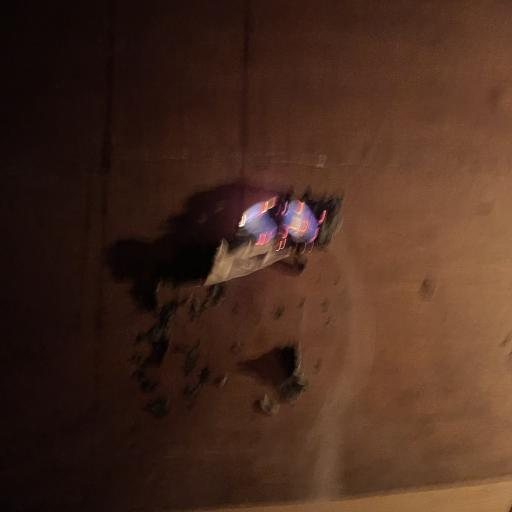fire: (233, 184, 351, 275)
